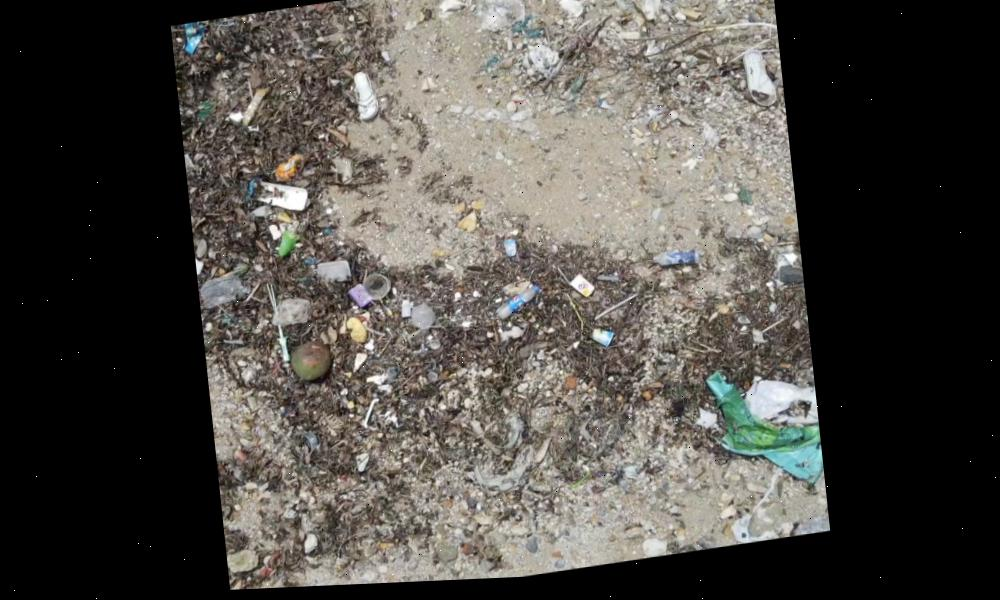carton: (566, 277, 595, 303)
plastic bag: (707, 374, 824, 498), (742, 371, 818, 445), (468, 0, 533, 37), (766, 522, 830, 547)
plastic bottle: (496, 289, 544, 322), (652, 249, 704, 278)
plastic container: (196, 266, 254, 311), (356, 265, 398, 307)
